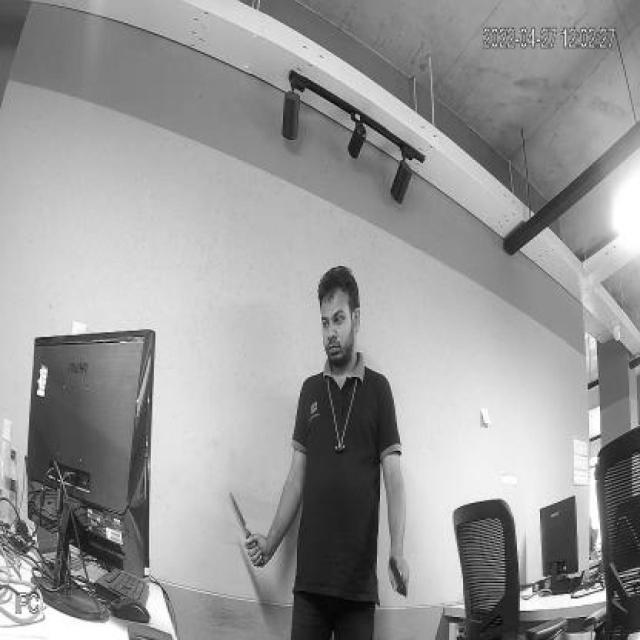weapon: (389, 557, 411, 600)
